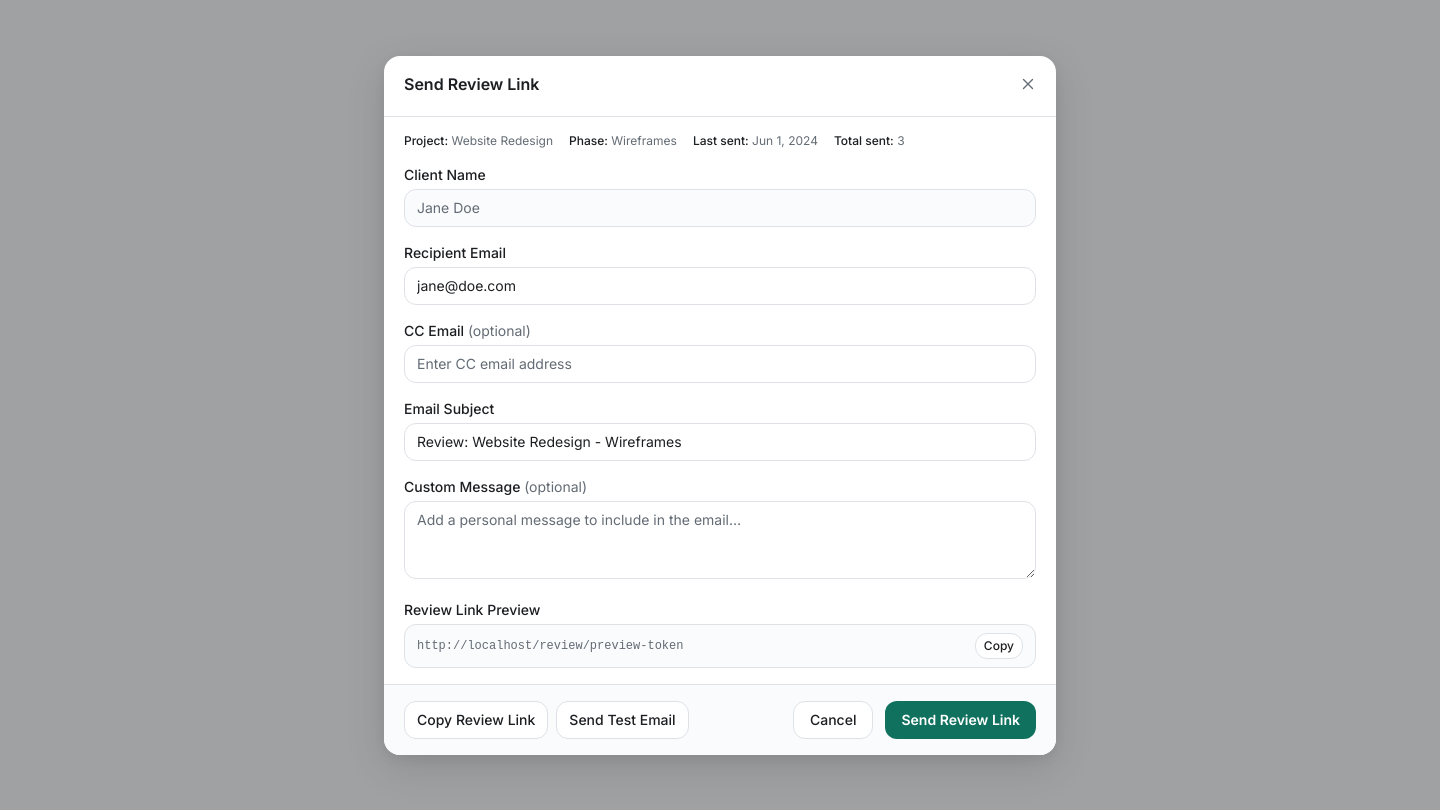
Test: SendReviewLinkModal › email-differs notice display (Req 13.5) › shows notice after user changes email to differ from client record
Replace the text in the field labelled "Recipient Email" with "other@domain.com" at (720, 286), box [404,266,1036,304]
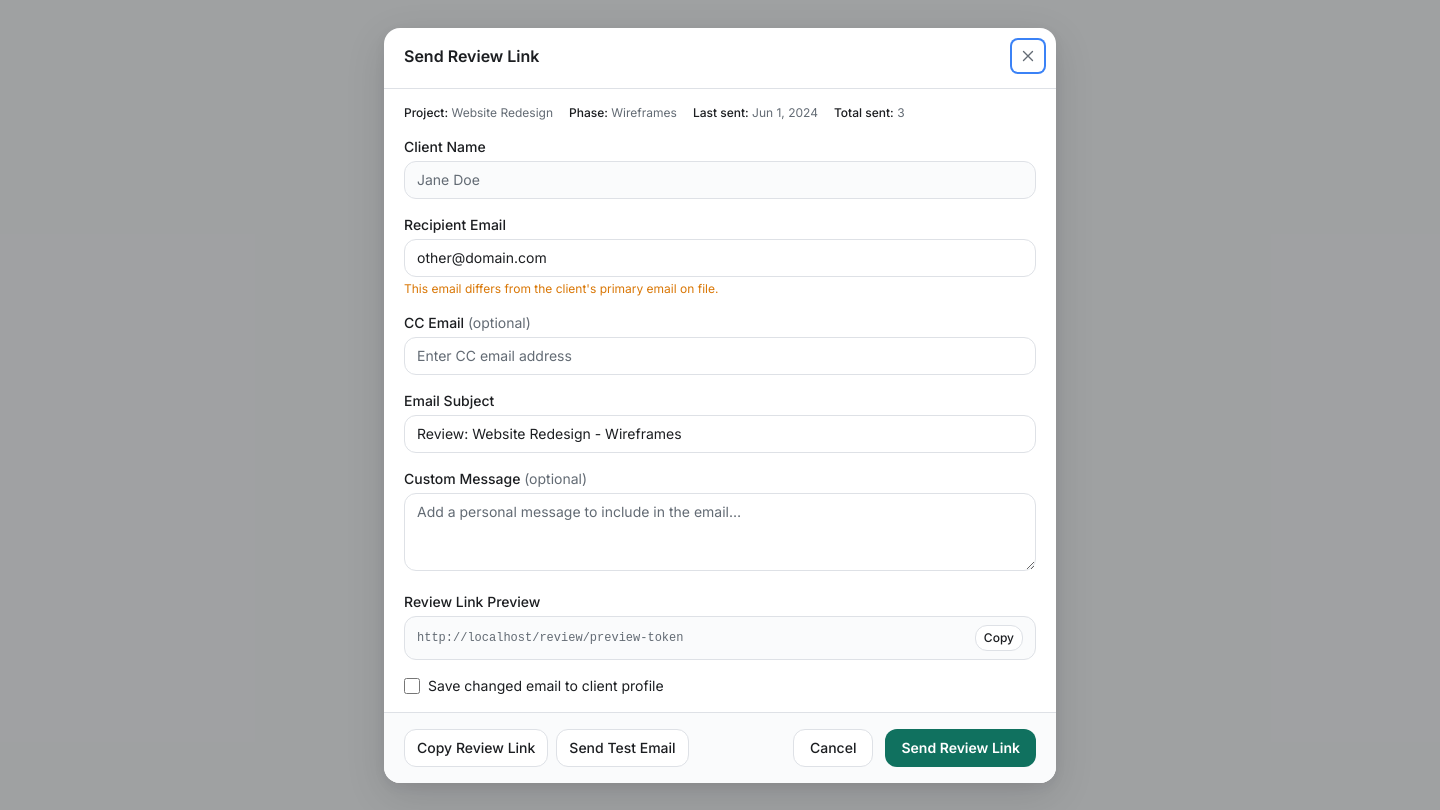
Expected: the text "This email differs from the client's primary email on file." is shown, [404,280,718,296]
